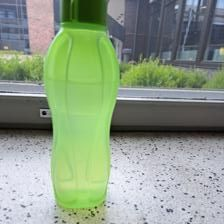bottle: (46, 0, 121, 210)
